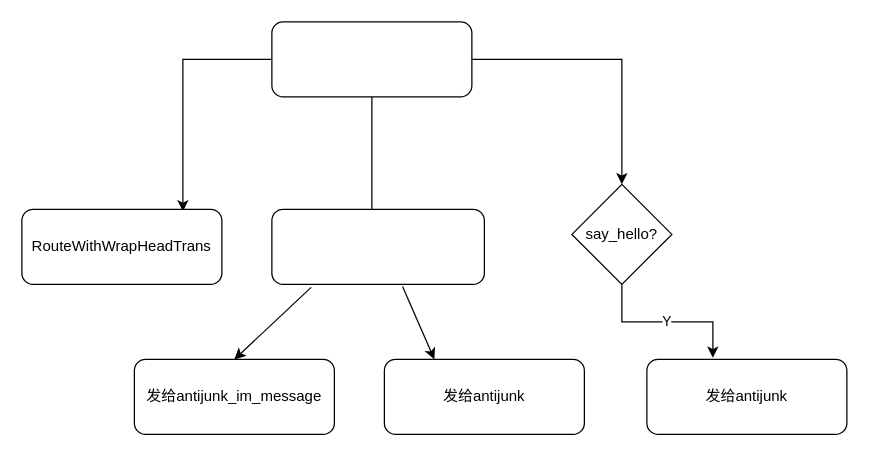
This 869x456 diagram has some shape labels left out. The shapes that lost their labels are listed below. From the top down, each one's box as (x1, y1, x2, y2) in pixels, then its label:
(271, 21, 472, 97): __RouteChatMsgToImct2
(271, 208, 484, 284): __RouteAntiJunk
